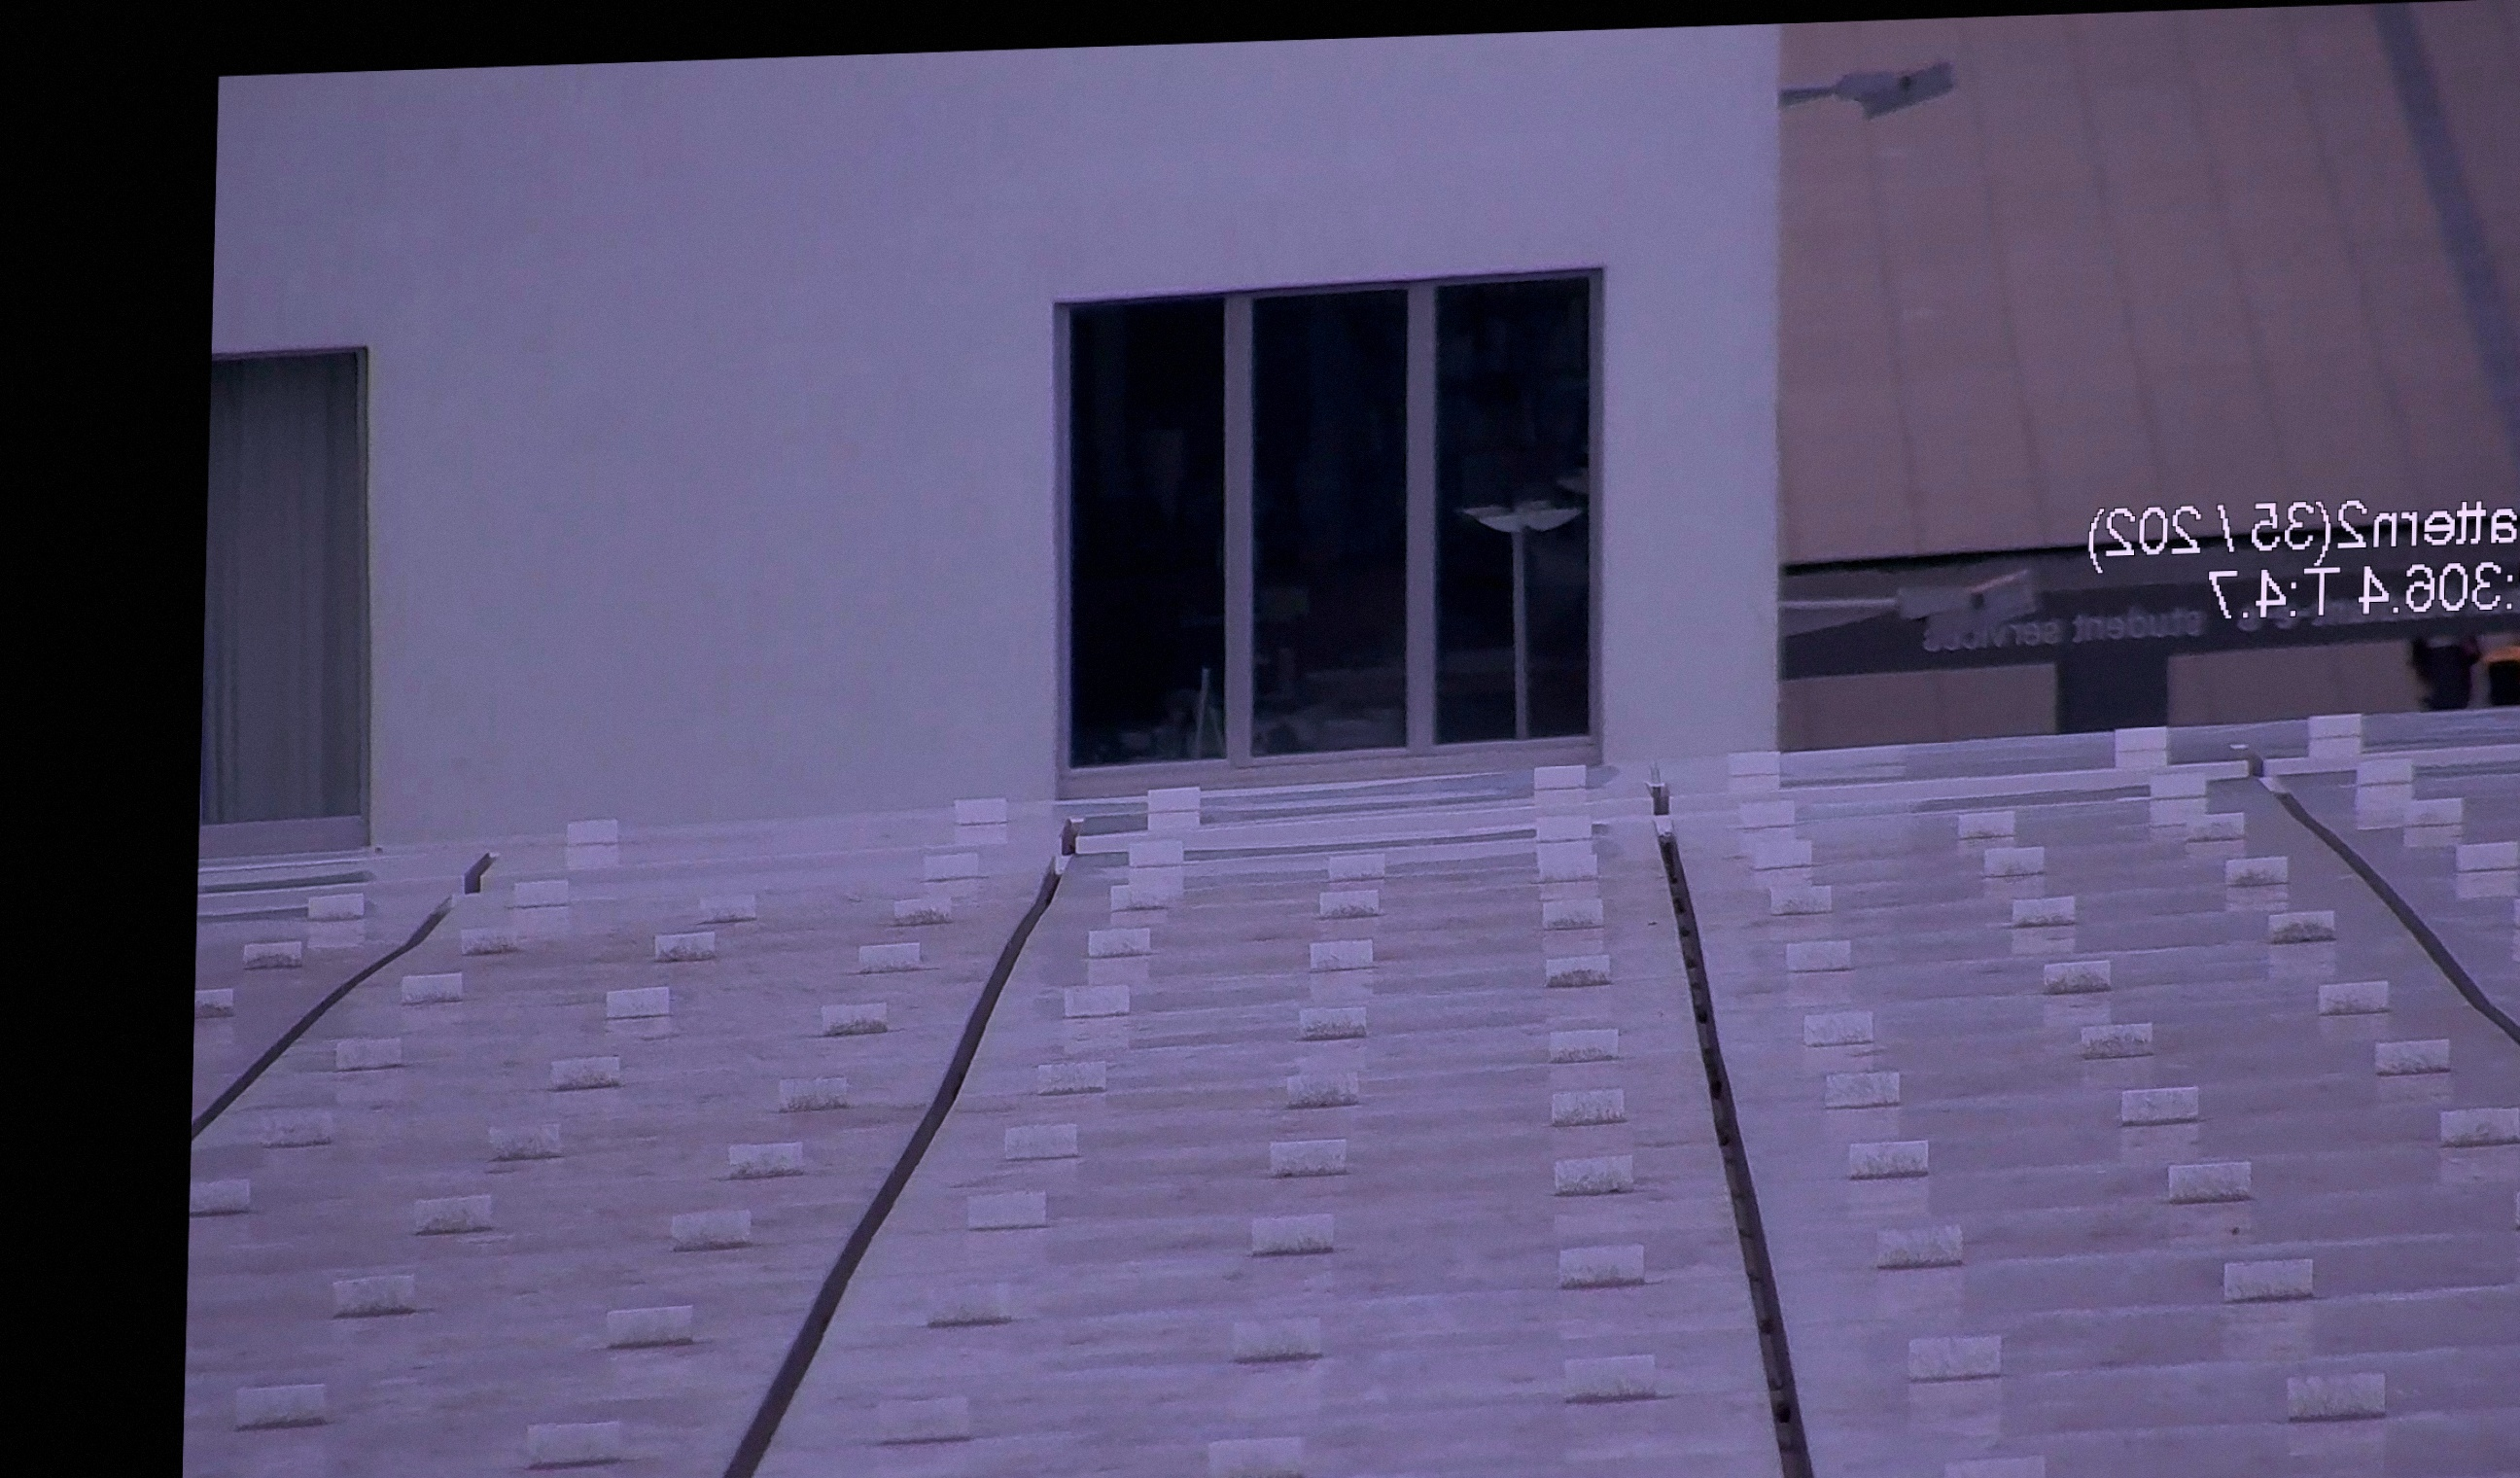Other: (1799, 48, 1963, 130)
